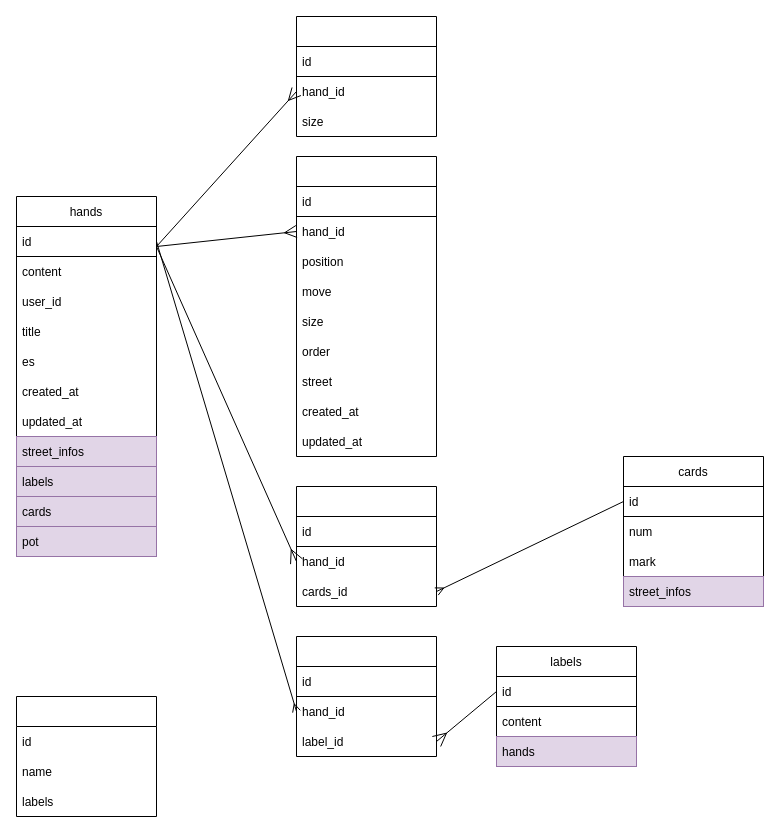
This 780x833 diagram has some shape labels left out. The box of each missing label's shape, as (x1, y1, x2, y2) in pixels:
actions: (296, 156, 436, 456)
hand_label: (296, 636, 436, 756)
hands_cards: (296, 486, 436, 606)
pots: (296, 16, 436, 136)
users: (16, 696, 156, 816)
